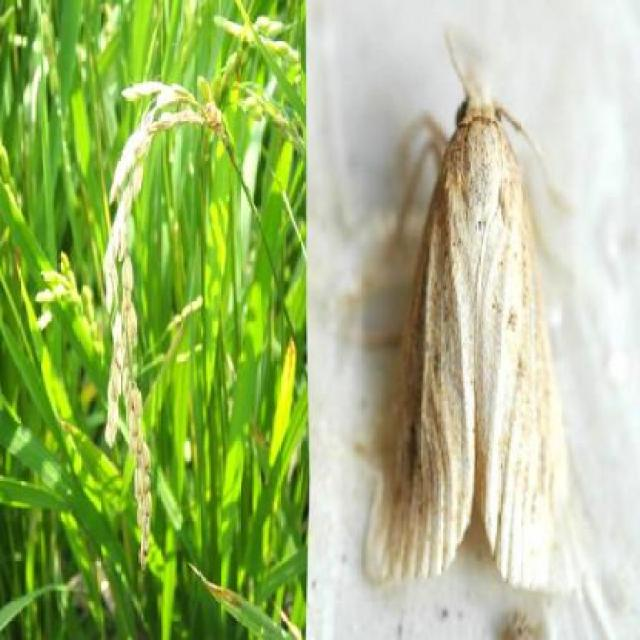stem-borer: (368, 75, 577, 588)
